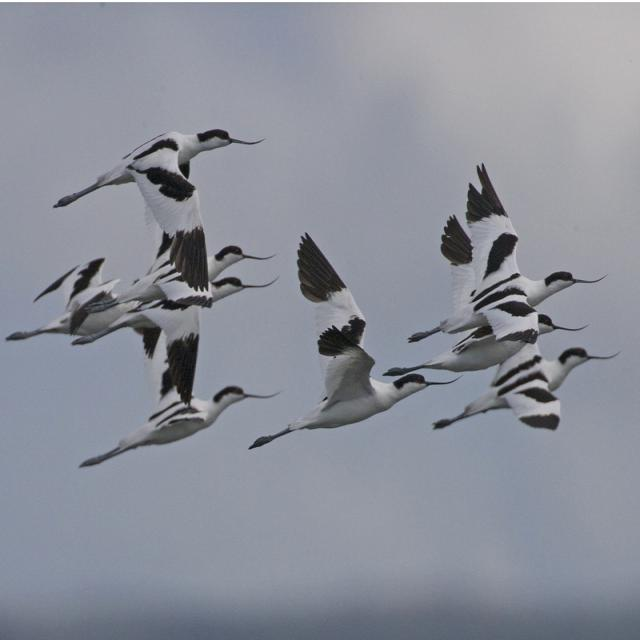bird: (271, 217, 463, 459), (64, 310, 279, 491), (48, 123, 268, 286), (434, 152, 608, 333), (16, 242, 270, 331), (437, 336, 624, 451)
